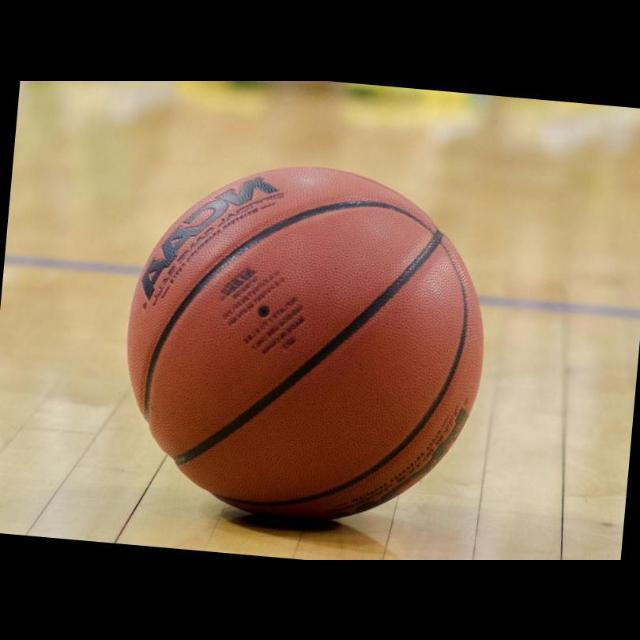basketball: (126, 165, 484, 517)
